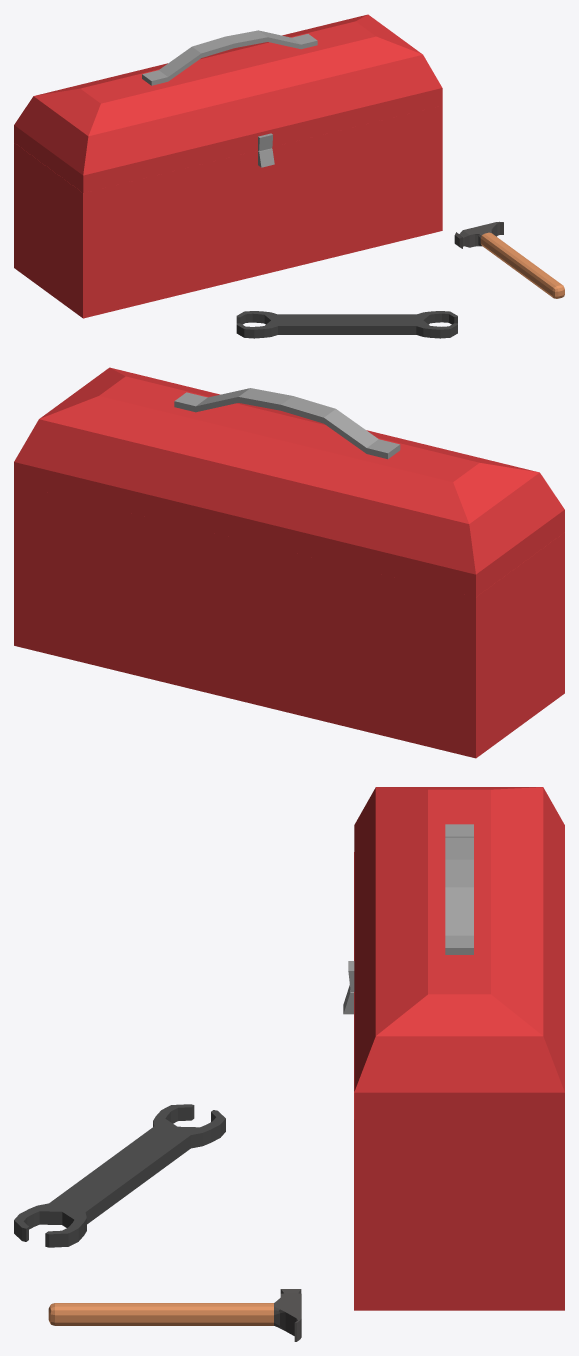
Rendered from toolbox.fbx.
The picture shows the model from 3 angles, top to bottom: view 1: azimuth 30°, elevation 25°; view 2: azimuth 150°, elevation 25°; view 3: azimuth 270°, elevation 25°; orthographic projection. The views are drawn at different scales.
Visible parts, largest first — view 1: Toolbox, Wrench, Hammer; view 2: Toolbox; view 3: Toolbox, Wrench, Hammer.
Part boxes in pixels (x1=…): Toolbox: x1=14, y1=14, x2=442, y2=318; Wrench: x1=236, y1=311, x2=457, y2=338; Hammer: x1=454, y1=221, x2=564, y2=298; Toolbox: x1=14, y1=367, x2=564, y2=758; Toolbox: x1=343, y1=787, x2=564, y2=1310; Wrench: x1=14, y1=1104, x2=225, y2=1247; Hammer: x1=48, y1=1289, x2=301, y2=1341.
Size of the model in its own units: 72.36 by 36 by 56.43.
